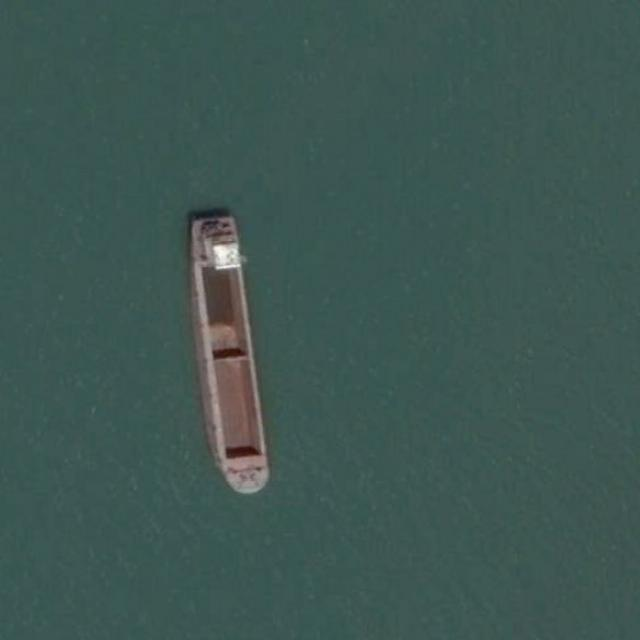ship: (185, 211, 273, 495)
